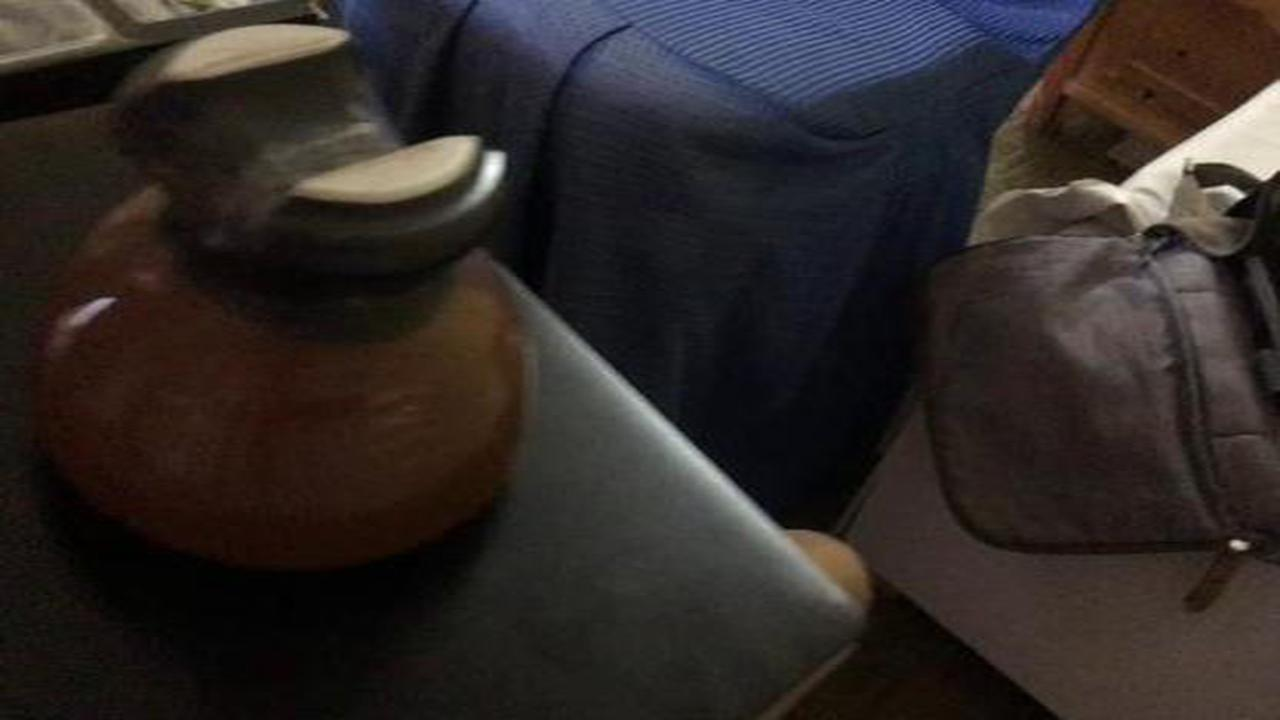insulator_pin: (31, 20, 570, 598)
